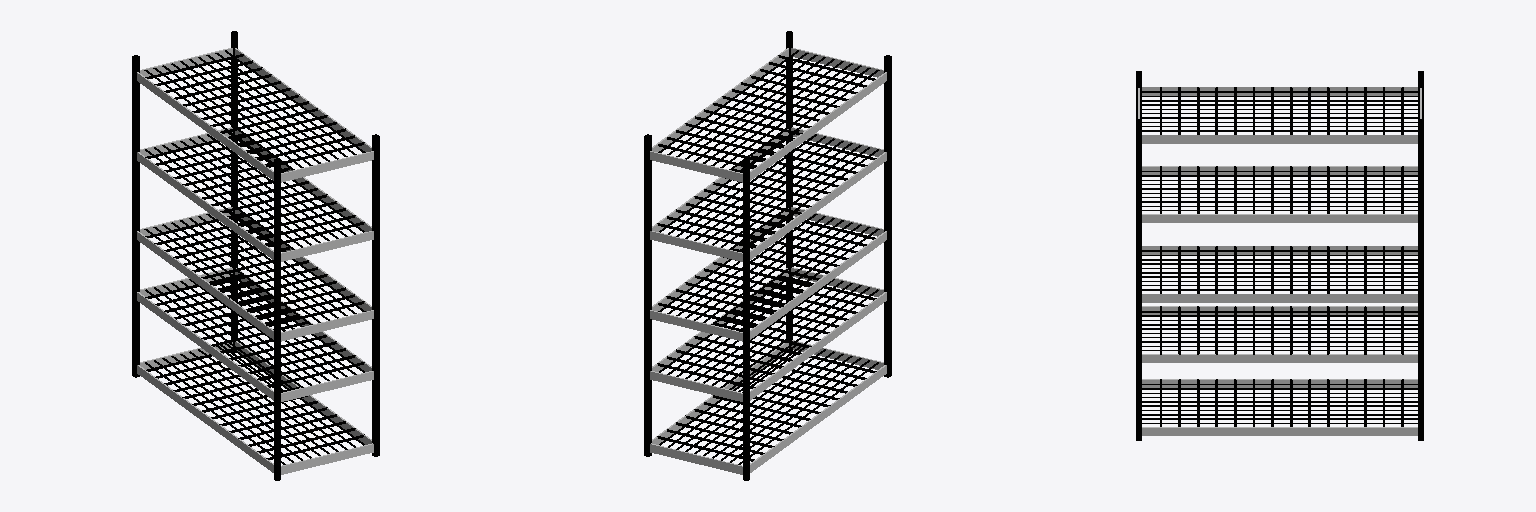
The model's file is IiwaShelvesUpdated.obj.
The picture shows the model from 3 angles: view 1: azimuth 30°, elevation 25°; view 2: azimuth 150°, elevation 25°; view 3: azimuth 270°, elevation 25°; orthographic projection.
Parts seen in each view (by area): view 1: shelf.004, shelf.003, shelf.002, shelf, shelf.001, Cube.002, Cube.004, Cube.001, Cube.003; view 2: shelf.004, shelf.002, shelf.003, shelf, shelf.001, Cube.003, Cube.001, Cube.004, Cube.002; view 3: shelf, shelf.002, shelf.004, shelf.001, shelf.003, Cube.002, Cube.003.
Part boxes in pixels (bbox=[...]): shelf.004: bbox=[137, 48, 373, 182]; shelf.003: bbox=[137, 127, 373, 261]; shelf.002: bbox=[137, 207, 373, 341]; shelf: bbox=[137, 341, 373, 474]; shelf.001: bbox=[137, 267, 373, 401]; Cube.002: bbox=[372, 134, 379, 456]; Cube.004: bbox=[132, 55, 139, 377]; Cube.001: bbox=[274, 158, 280, 480]; Cube.003: bbox=[231, 31, 237, 353]; shelf.004: bbox=[650, 48, 886, 182]; shelf.002: bbox=[650, 207, 886, 341]; shelf.003: bbox=[650, 127, 886, 261]; shelf: bbox=[650, 340, 886, 474]; shelf.001: bbox=[650, 267, 886, 401]; Cube.003: bbox=[644, 134, 651, 456]; Cube.001: bbox=[884, 55, 891, 377]; Cube.004: bbox=[743, 158, 749, 480]; Cube.002: bbox=[786, 31, 792, 353]; shelf: bbox=[1142, 379, 1417, 435]; shelf.002: bbox=[1142, 246, 1417, 302]; shelf.004: bbox=[1138, 87, 1421, 143]; shelf.001: bbox=[1142, 306, 1417, 362]; shelf.003: bbox=[1142, 166, 1417, 222]; Cube.002: bbox=[1136, 119, 1141, 440]; Cube.003: bbox=[1418, 119, 1423, 440].
Size of the model in its own units: 0.64 by 1.9 by 1.55.